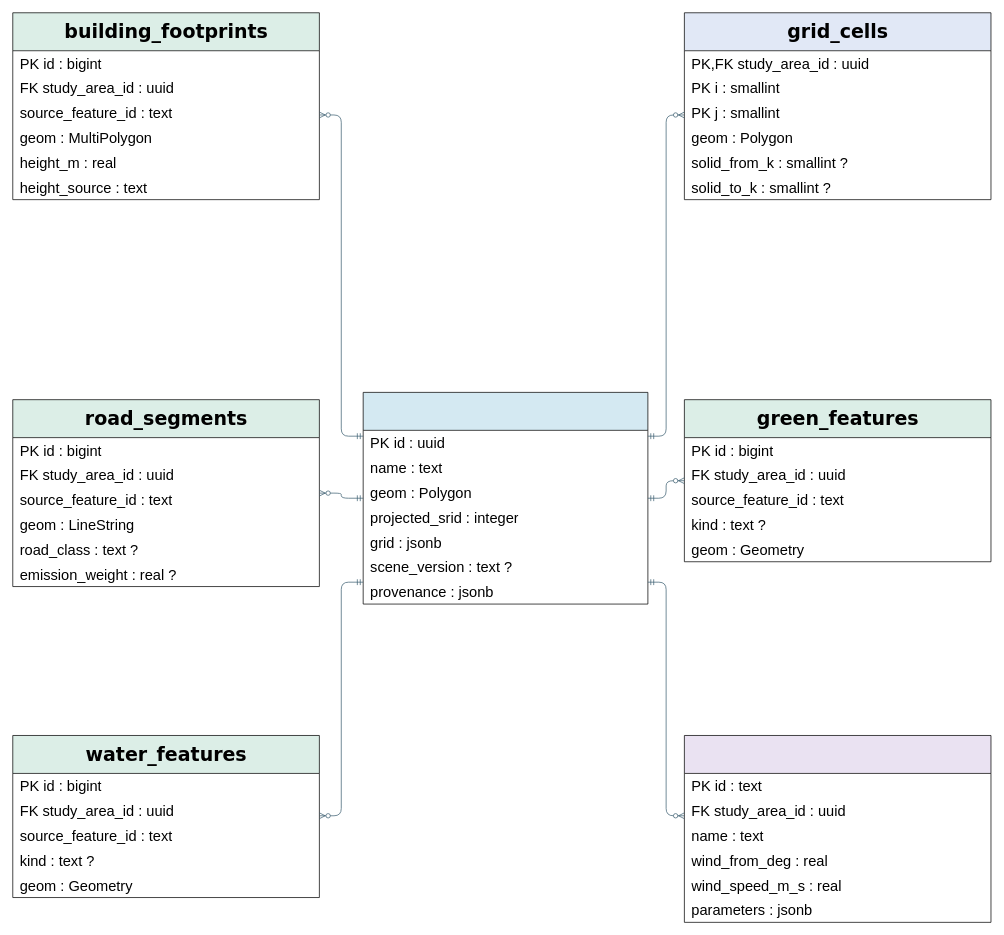
This 1004x935 diagram has some shape labels left out. The box of each missing label's shape, as (x1, y1, x2, y2) in pixels:
scenarios: (684, 735, 991, 922)
study_areas: (362, 392, 648, 604)
